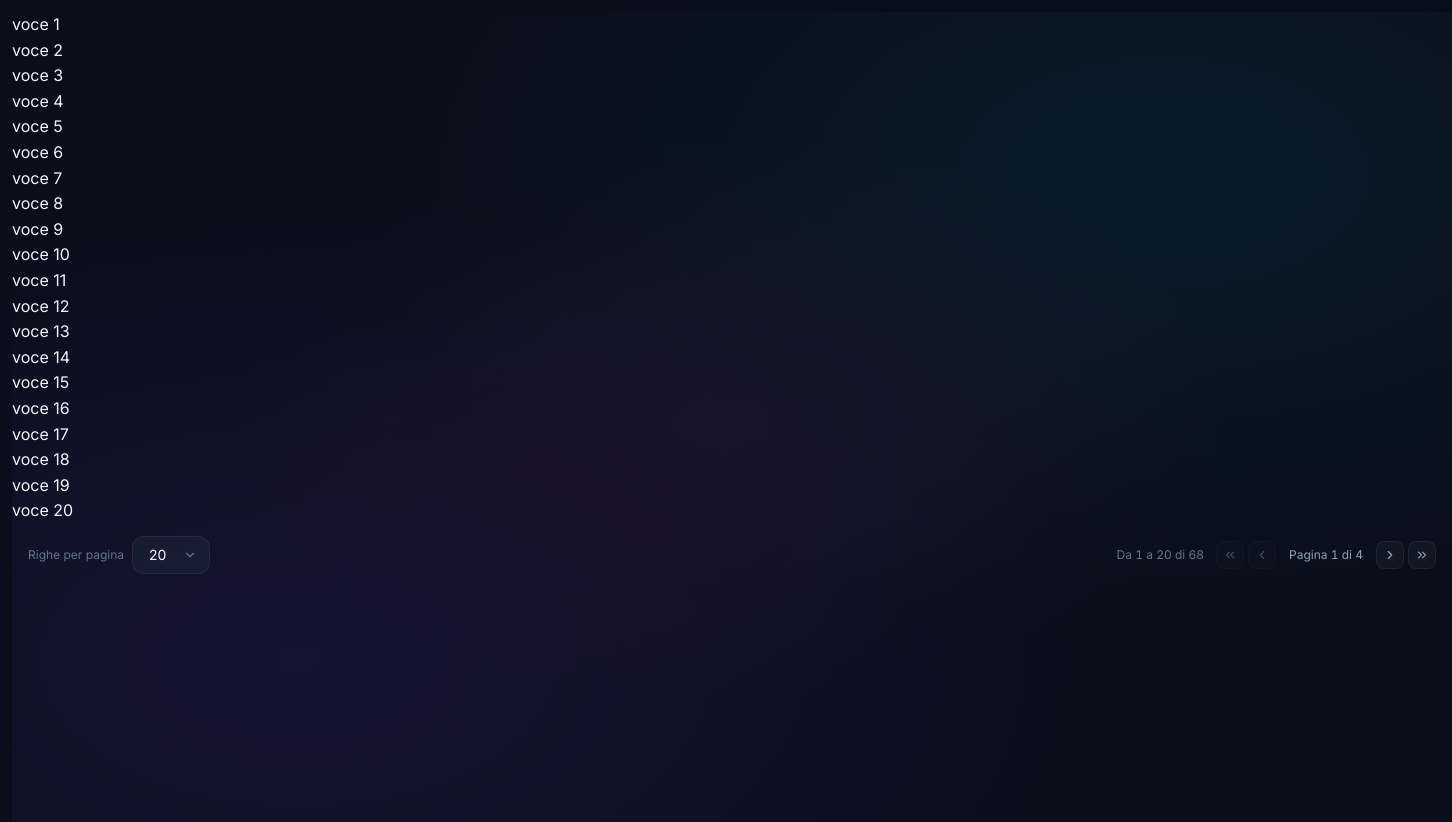
it: Pagination › torna in cima quando cambia il numero per pagina
Click the button named "Ultima Pagina": (1422, 555) [1408,541,1436,569]
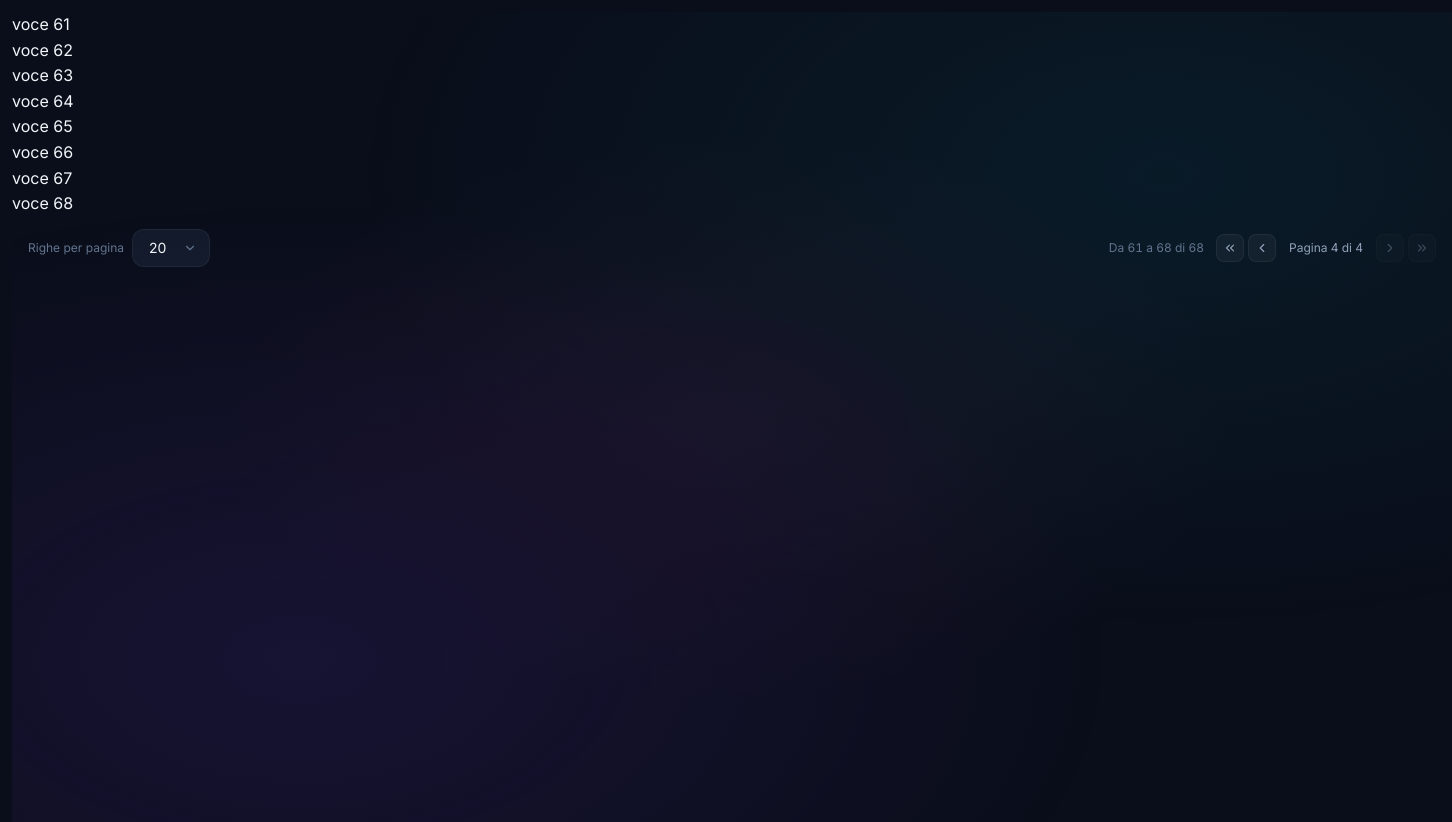
Click the dropdown: (171, 248) [132,229,210,267]
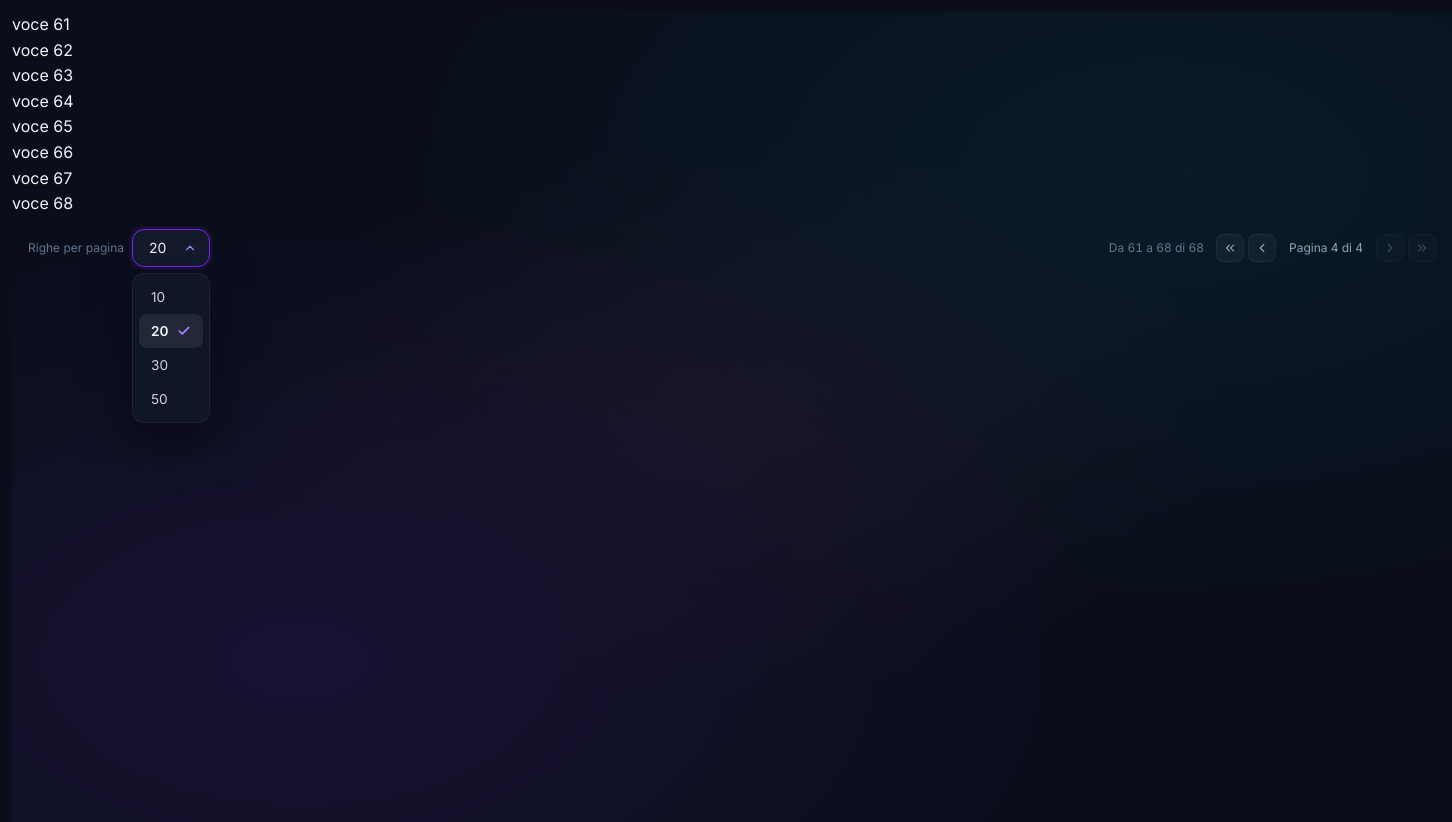
Click the option "10": (158, 297) [151,289,165,305]
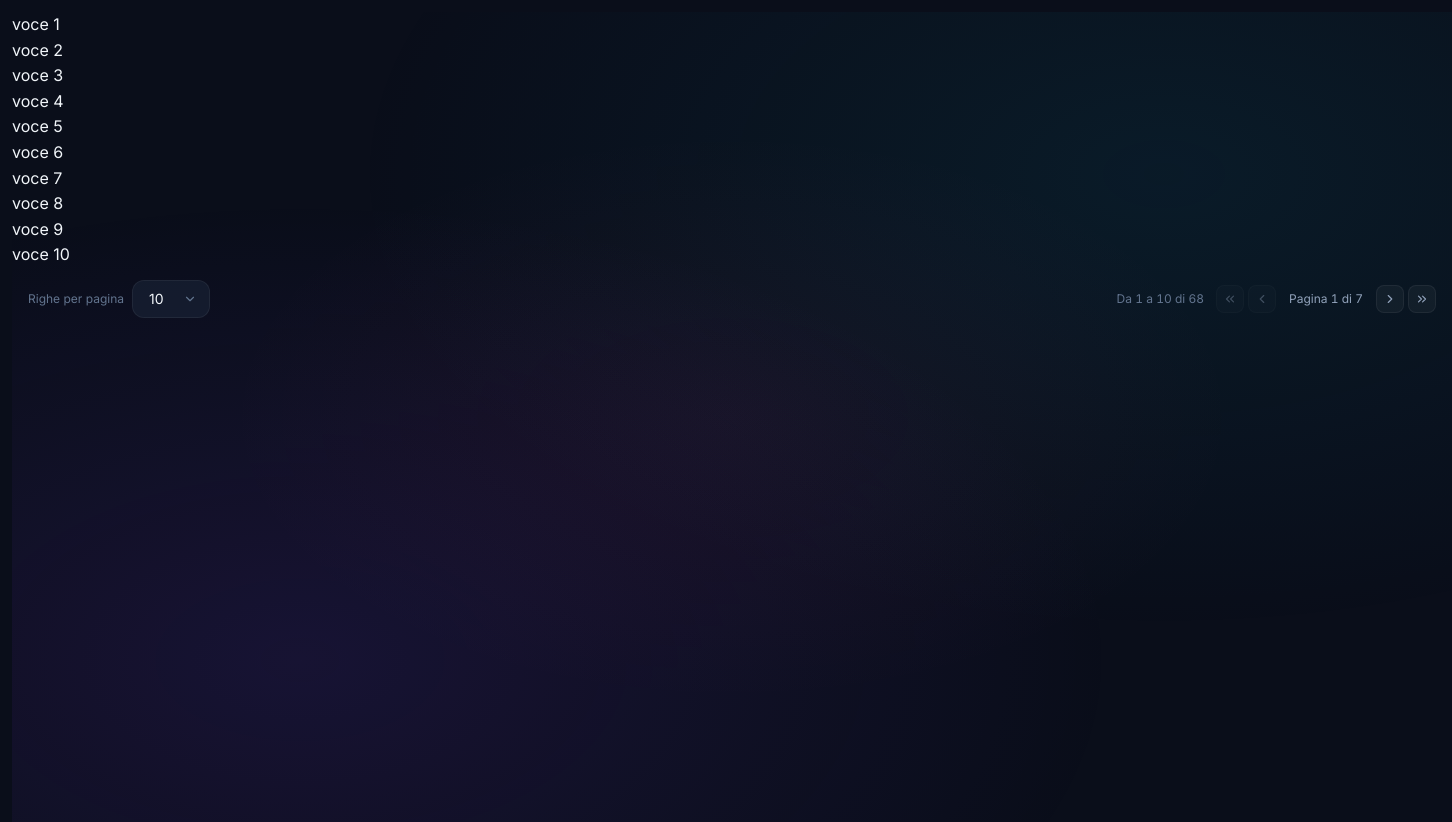
Expected: the text "Da 1 a 10 di 68" is shown, [1117,291,1204,307]
Expected: the number of list items is 10
